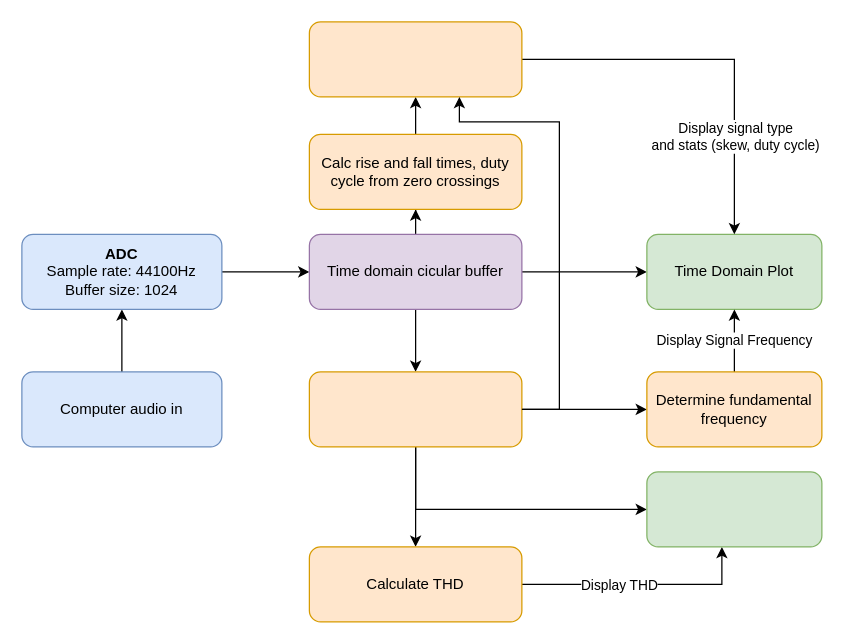
This 844x644 diagram has some shape labels left out. Each missing label, with the centre of its shape:
Classify signal => Square, Triangle, Sawtooth, Sine: [415,59]
Fast Fourier Transform: [415,409]
Frequency Domain Plot: [734,509]
